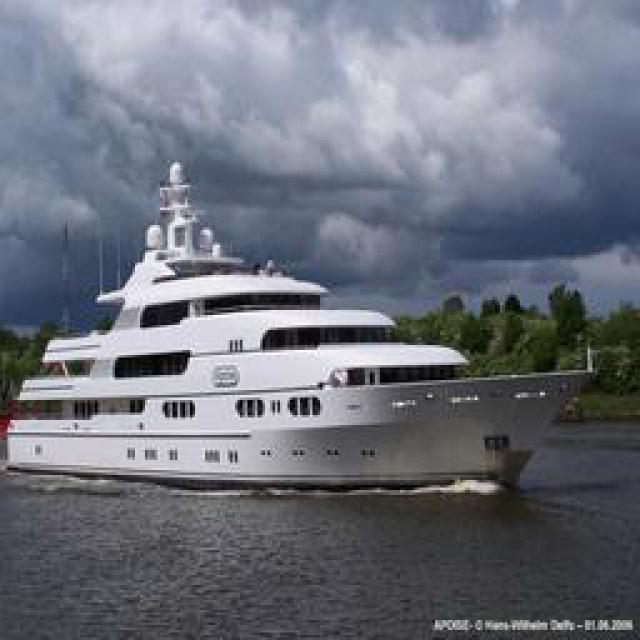Ship: (12, 215, 595, 493)
